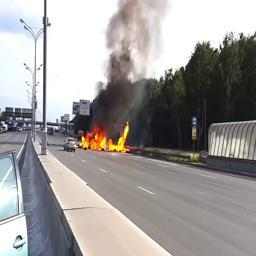fire: (78, 122, 129, 153)
